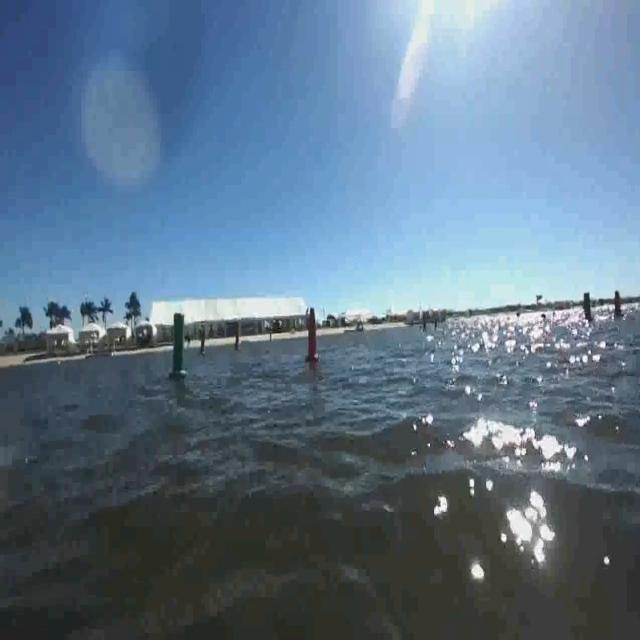green-column-buoy: (169, 310, 189, 380), (579, 290, 594, 324)
red-column-buoy: (305, 307, 321, 364), (614, 289, 625, 317), (235, 331, 243, 354)
